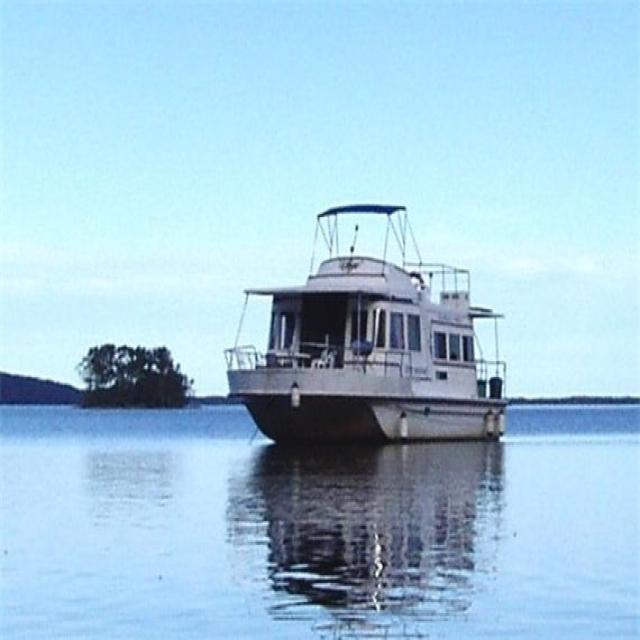houseboat: (212, 203, 513, 445)
